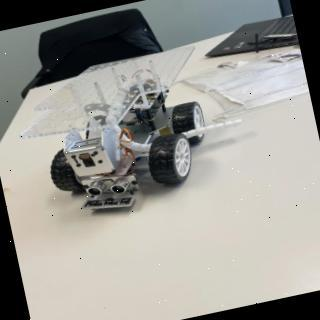vehicle: (32, 50, 227, 226)
